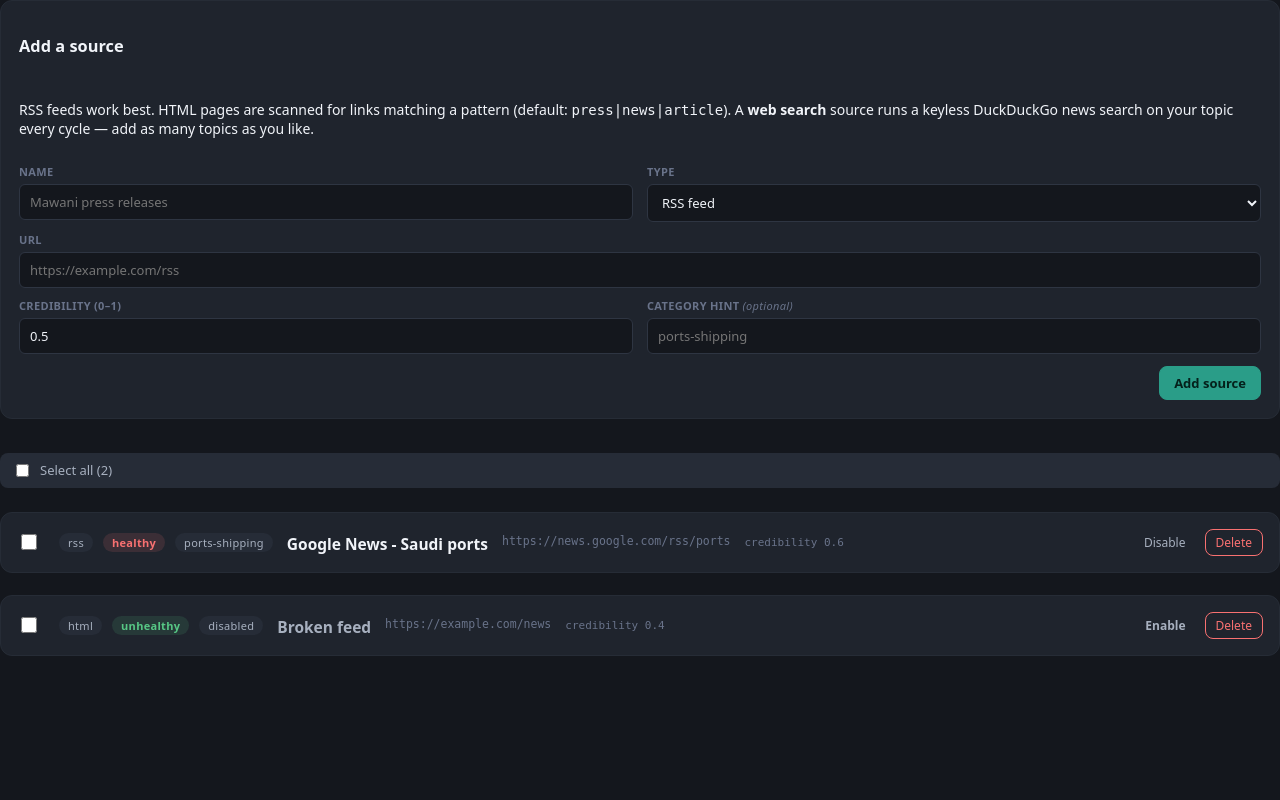
shows an error when adding an invalid url
Expected: the heading "Google News - Saudi ports" is shown, [287, 534, 488, 554]
Type "X" into the field labelled "Name". click: (326,202)
box: [19, 184, 633, 220]
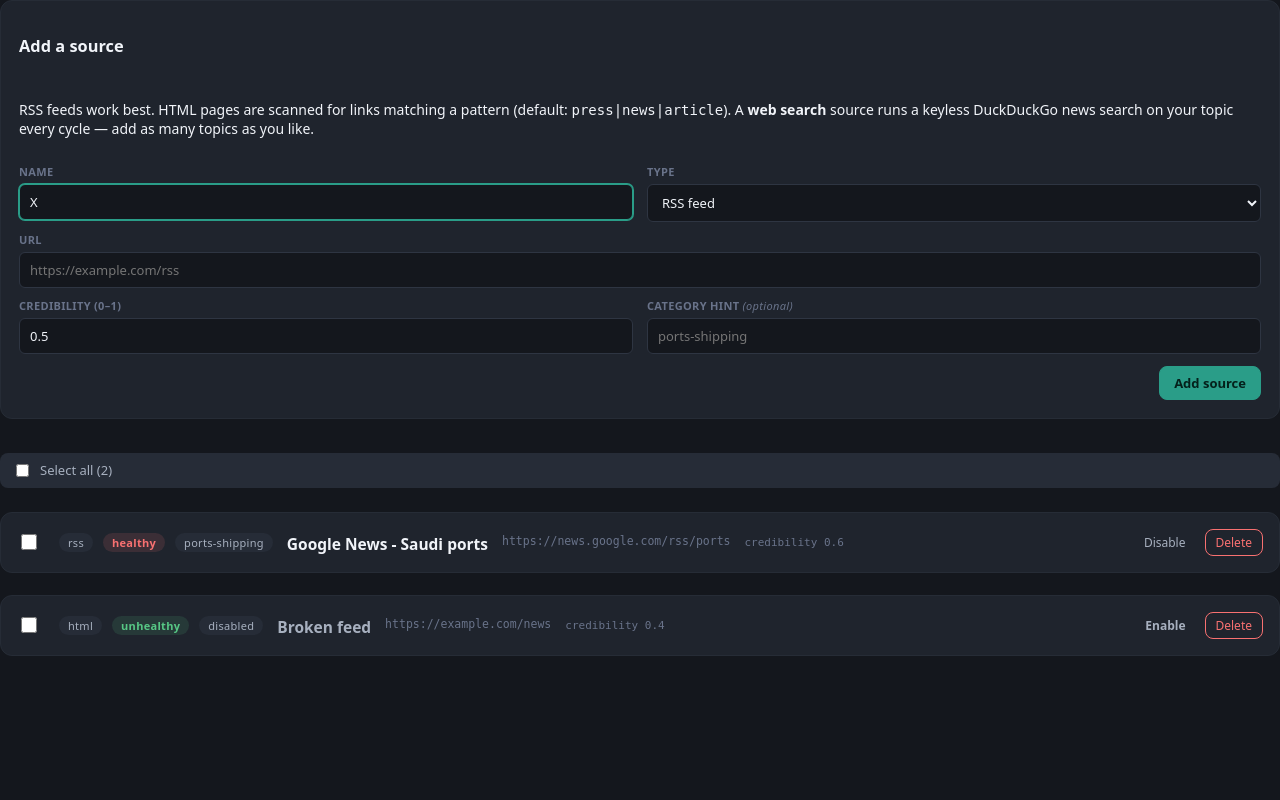
Type "nope" into the field labelled "URL". click: (640,270)
box: [19, 252, 1261, 288]
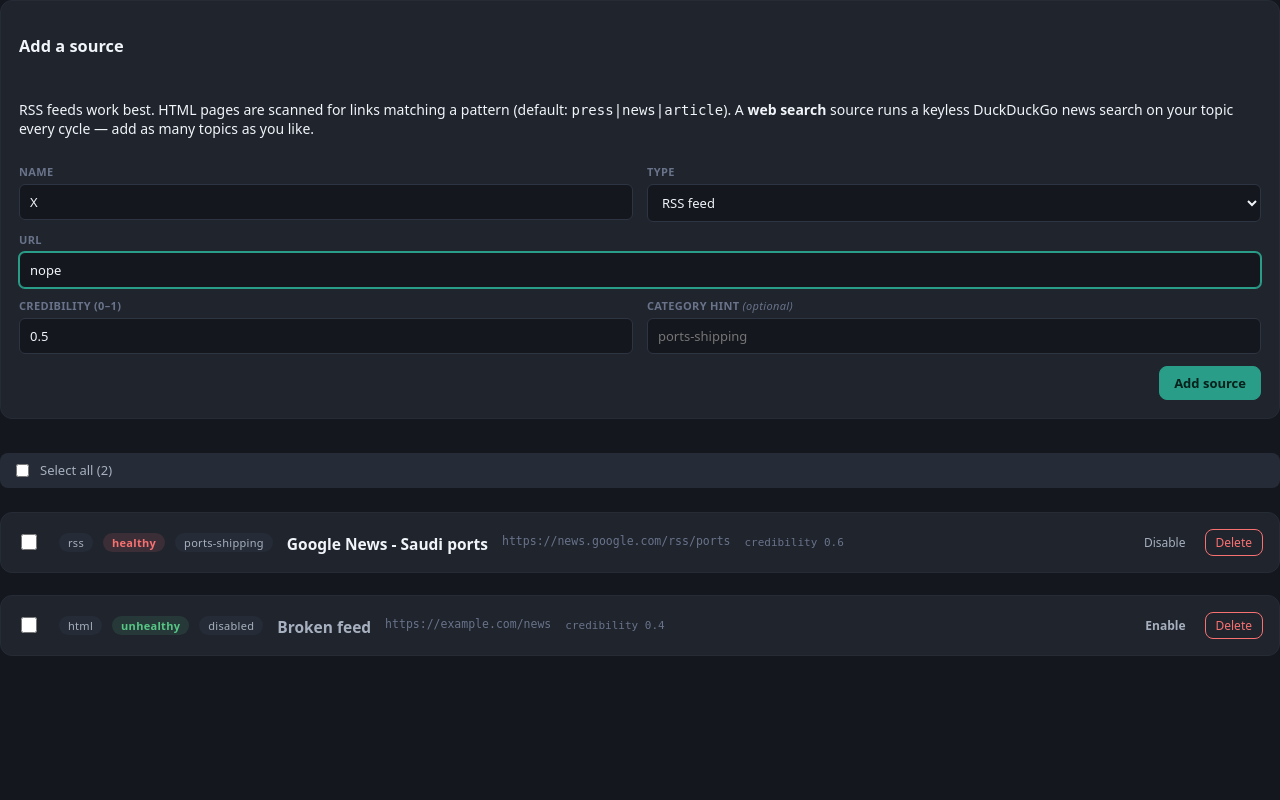
Click the button "Add source". click: (1210,383)
box: [1159, 366, 1261, 400]
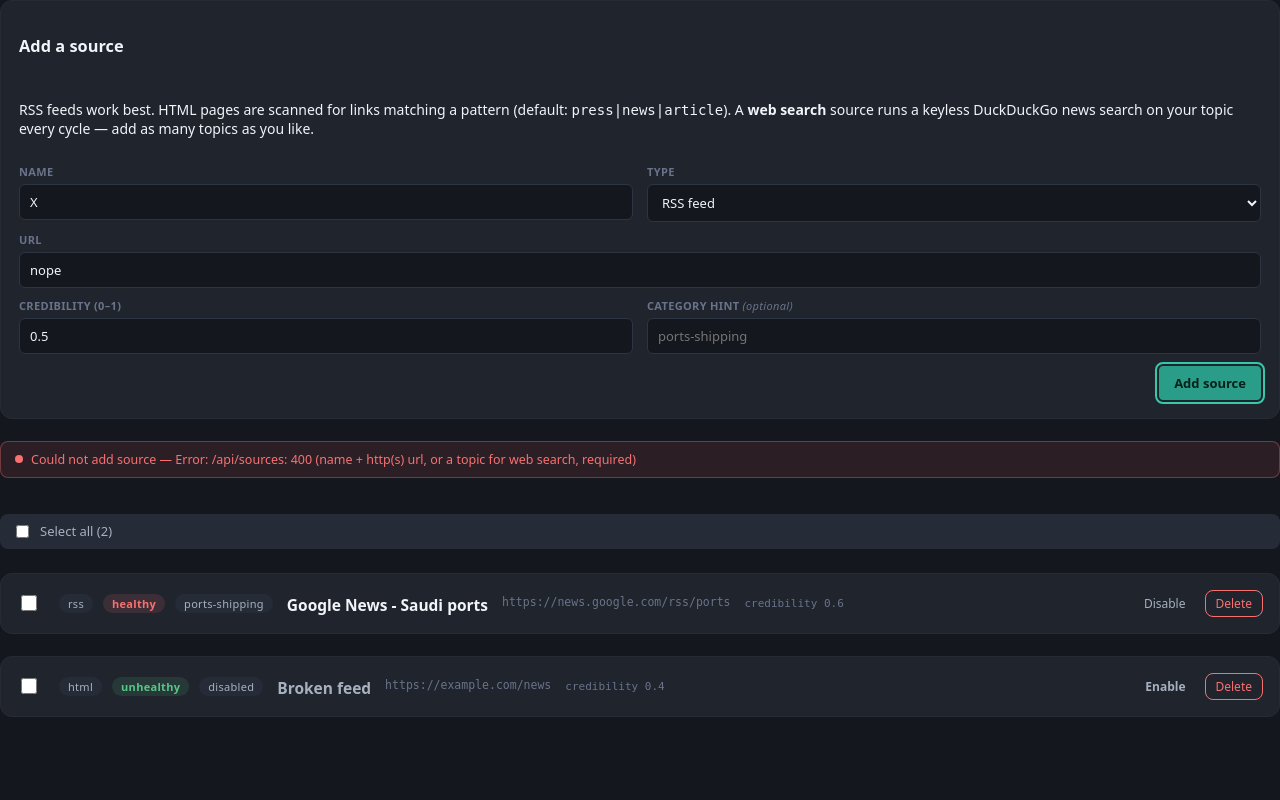
Result: the text "400" is shown at [31, 451, 636, 468]
